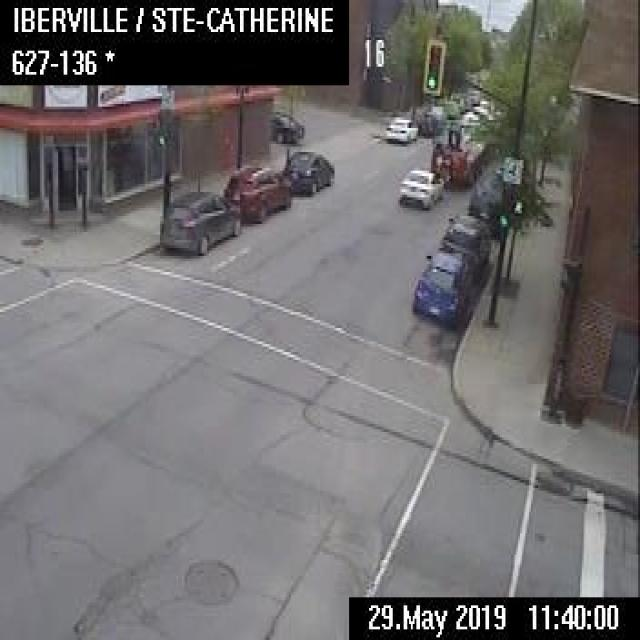vehicle: (159, 190, 242, 253), (411, 248, 471, 323), (222, 163, 291, 222), (428, 123, 488, 186), (437, 210, 493, 277), (468, 160, 508, 237), (280, 149, 334, 193), (398, 166, 444, 206), (271, 110, 302, 145), (415, 103, 446, 134), (385, 113, 418, 142)
